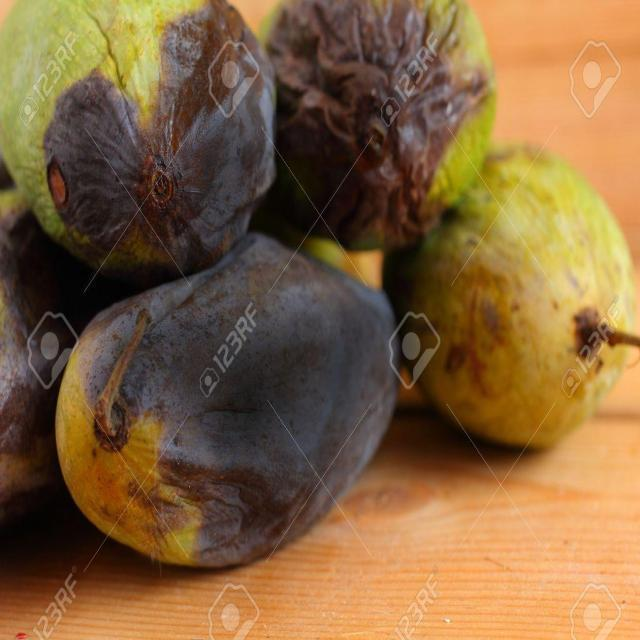Mango: (54, 236, 400, 568), (384, 141, 640, 439), (0, 0, 274, 263), (256, 0, 496, 250), (0, 210, 60, 509)
